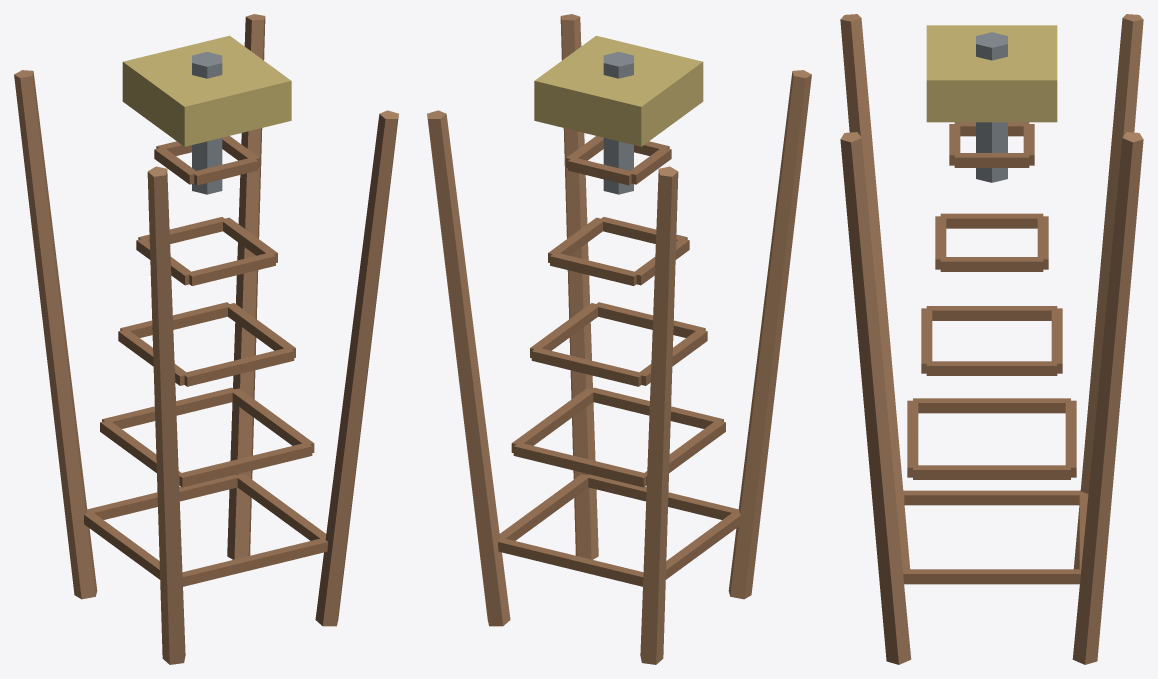
The model's file is valak_torre_0.glb.
3 renders of one model, left to right at view 1: azimuth 30°, elevation 25°; view 2: azimuth 150°, elevation 25°; view 3: azimuth 270°, elevation 25°, orthographic. The views are drawn at different scales.
Parts seen in each view (by area): view 1: torre; view 2: torre; view 3: torre.
Boxes of the visible parts, box(x1,y1,x2,y2) form: torre: box(14, 14, 398, 664); torre: box(427, 14, 811, 664); torre: box(840, 14, 1143, 664).
Size of the model in its own units: 1.62 by 3.44 by 1.63.
